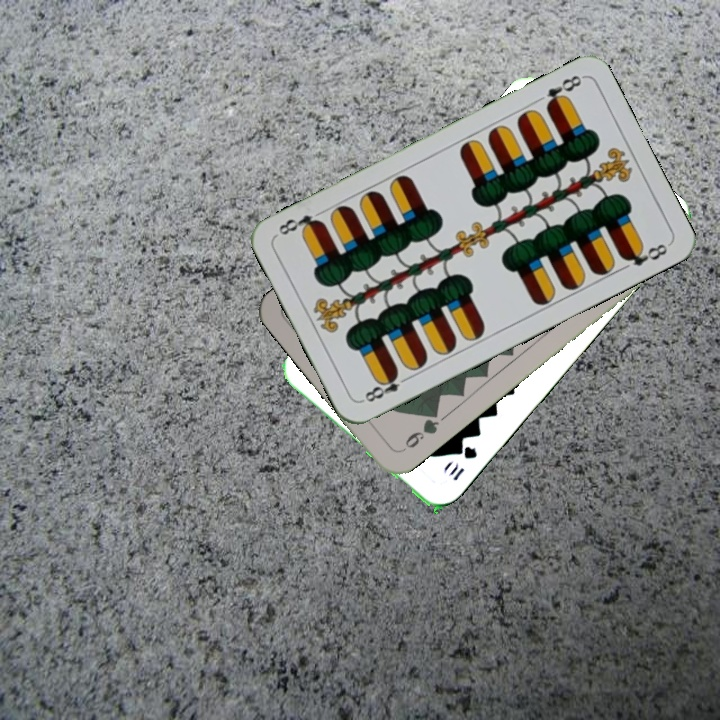E8: (358, 367, 413, 405), (542, 71, 585, 112)
G10: (443, 442, 480, 484)
G9: (397, 405, 442, 455)
